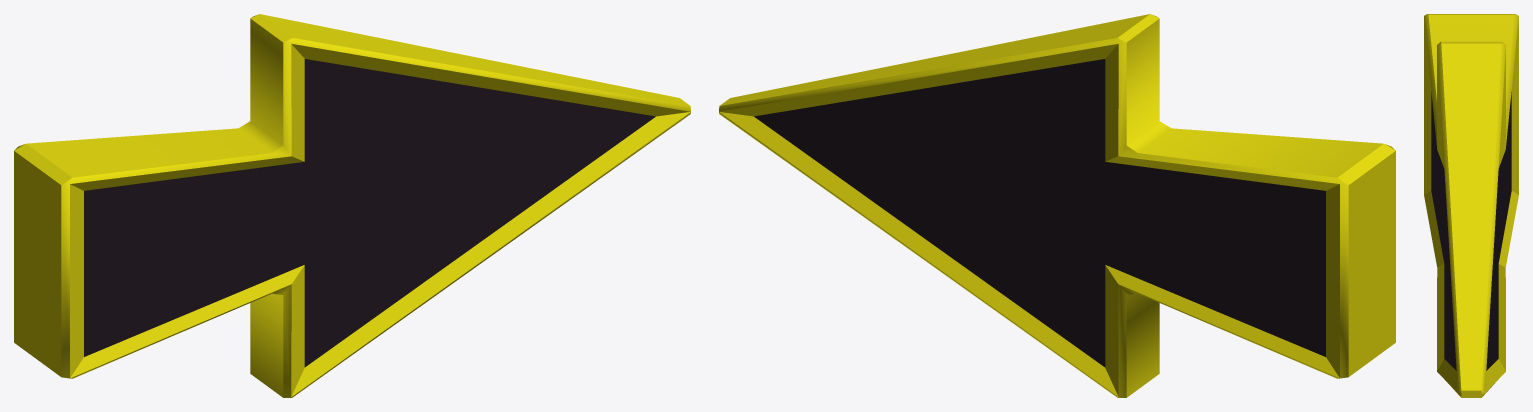
Rendered from arrow1.fbx.
3 renders of one model, left to right at view 1: azimuth 30°, elevation 25°; view 2: azimuth 150°, elevation 25°; view 3: azimuth 270°, elevation 25°, orthographic. The views are drawn at different scales.
Parts seen in each view (by area): view 1: node_id31; view 2: node_id31; view 3: node_id31.
Boxes of the visible parts, x1,y1,x2,y2 form: node_id31: (14,14,690,397); node_id31: (719,14,1395,397); node_id31: (1424,14,1518,397).
Bounding box in the file's own units: 0.6279 × 0.3335 × 0.0864.
1 material, 1 textured.
